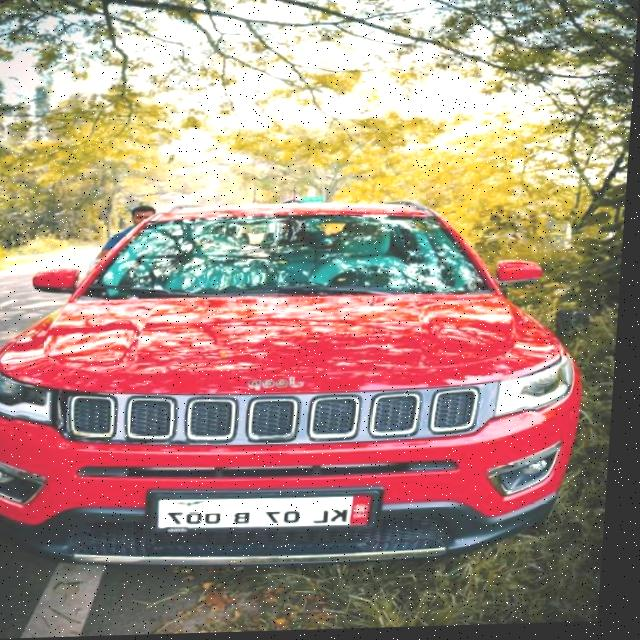plate: (155, 487, 391, 538)
